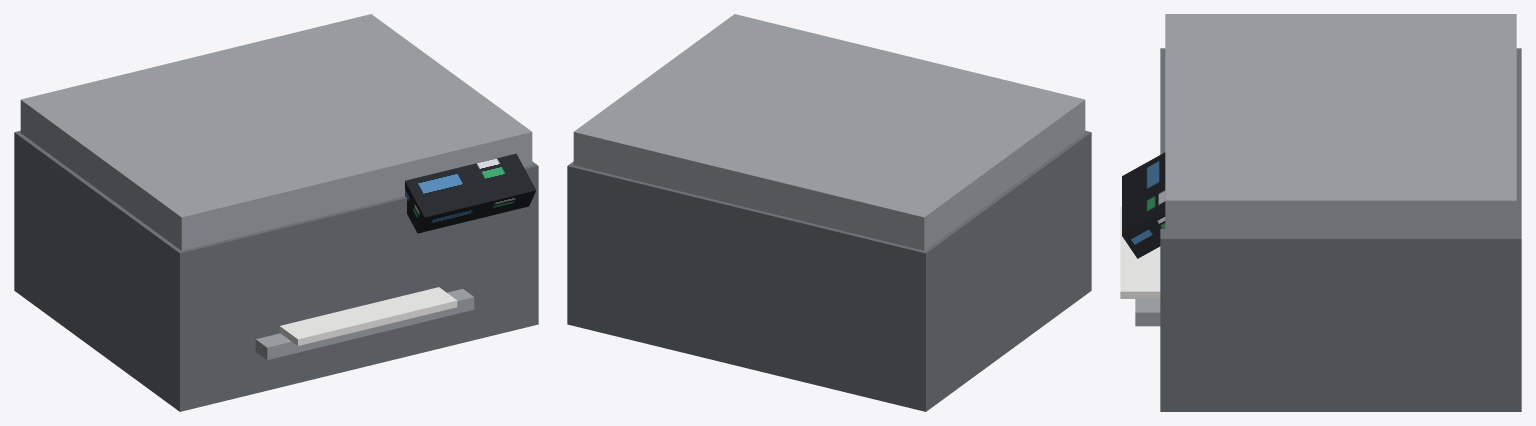
Rendered from printer_home.glb.
The picture shows the model from 3 angles, left to right: view 1: azimuth 30°, elevation 25°; view 2: azimuth 150°, elevation 25°; view 3: azimuth 270°, elevation 25°; orthographic projection. The views are drawn at different scales.
Visible parts, largest first — view 1: printer_home; view 2: printer_home; view 3: printer_home.
Boxes of the visible parts, x1=… form: printer_home: x1=14, y1=14, x2=538, y2=411; printer_home: x1=567, y1=14, x2=1091, y2=411; printer_home: x1=1120, y1=14, x2=1521, y2=411.
Bounding box in the file's own units: 0.45 × 0.23 × 0.4.
4 materials, 1 textured.
